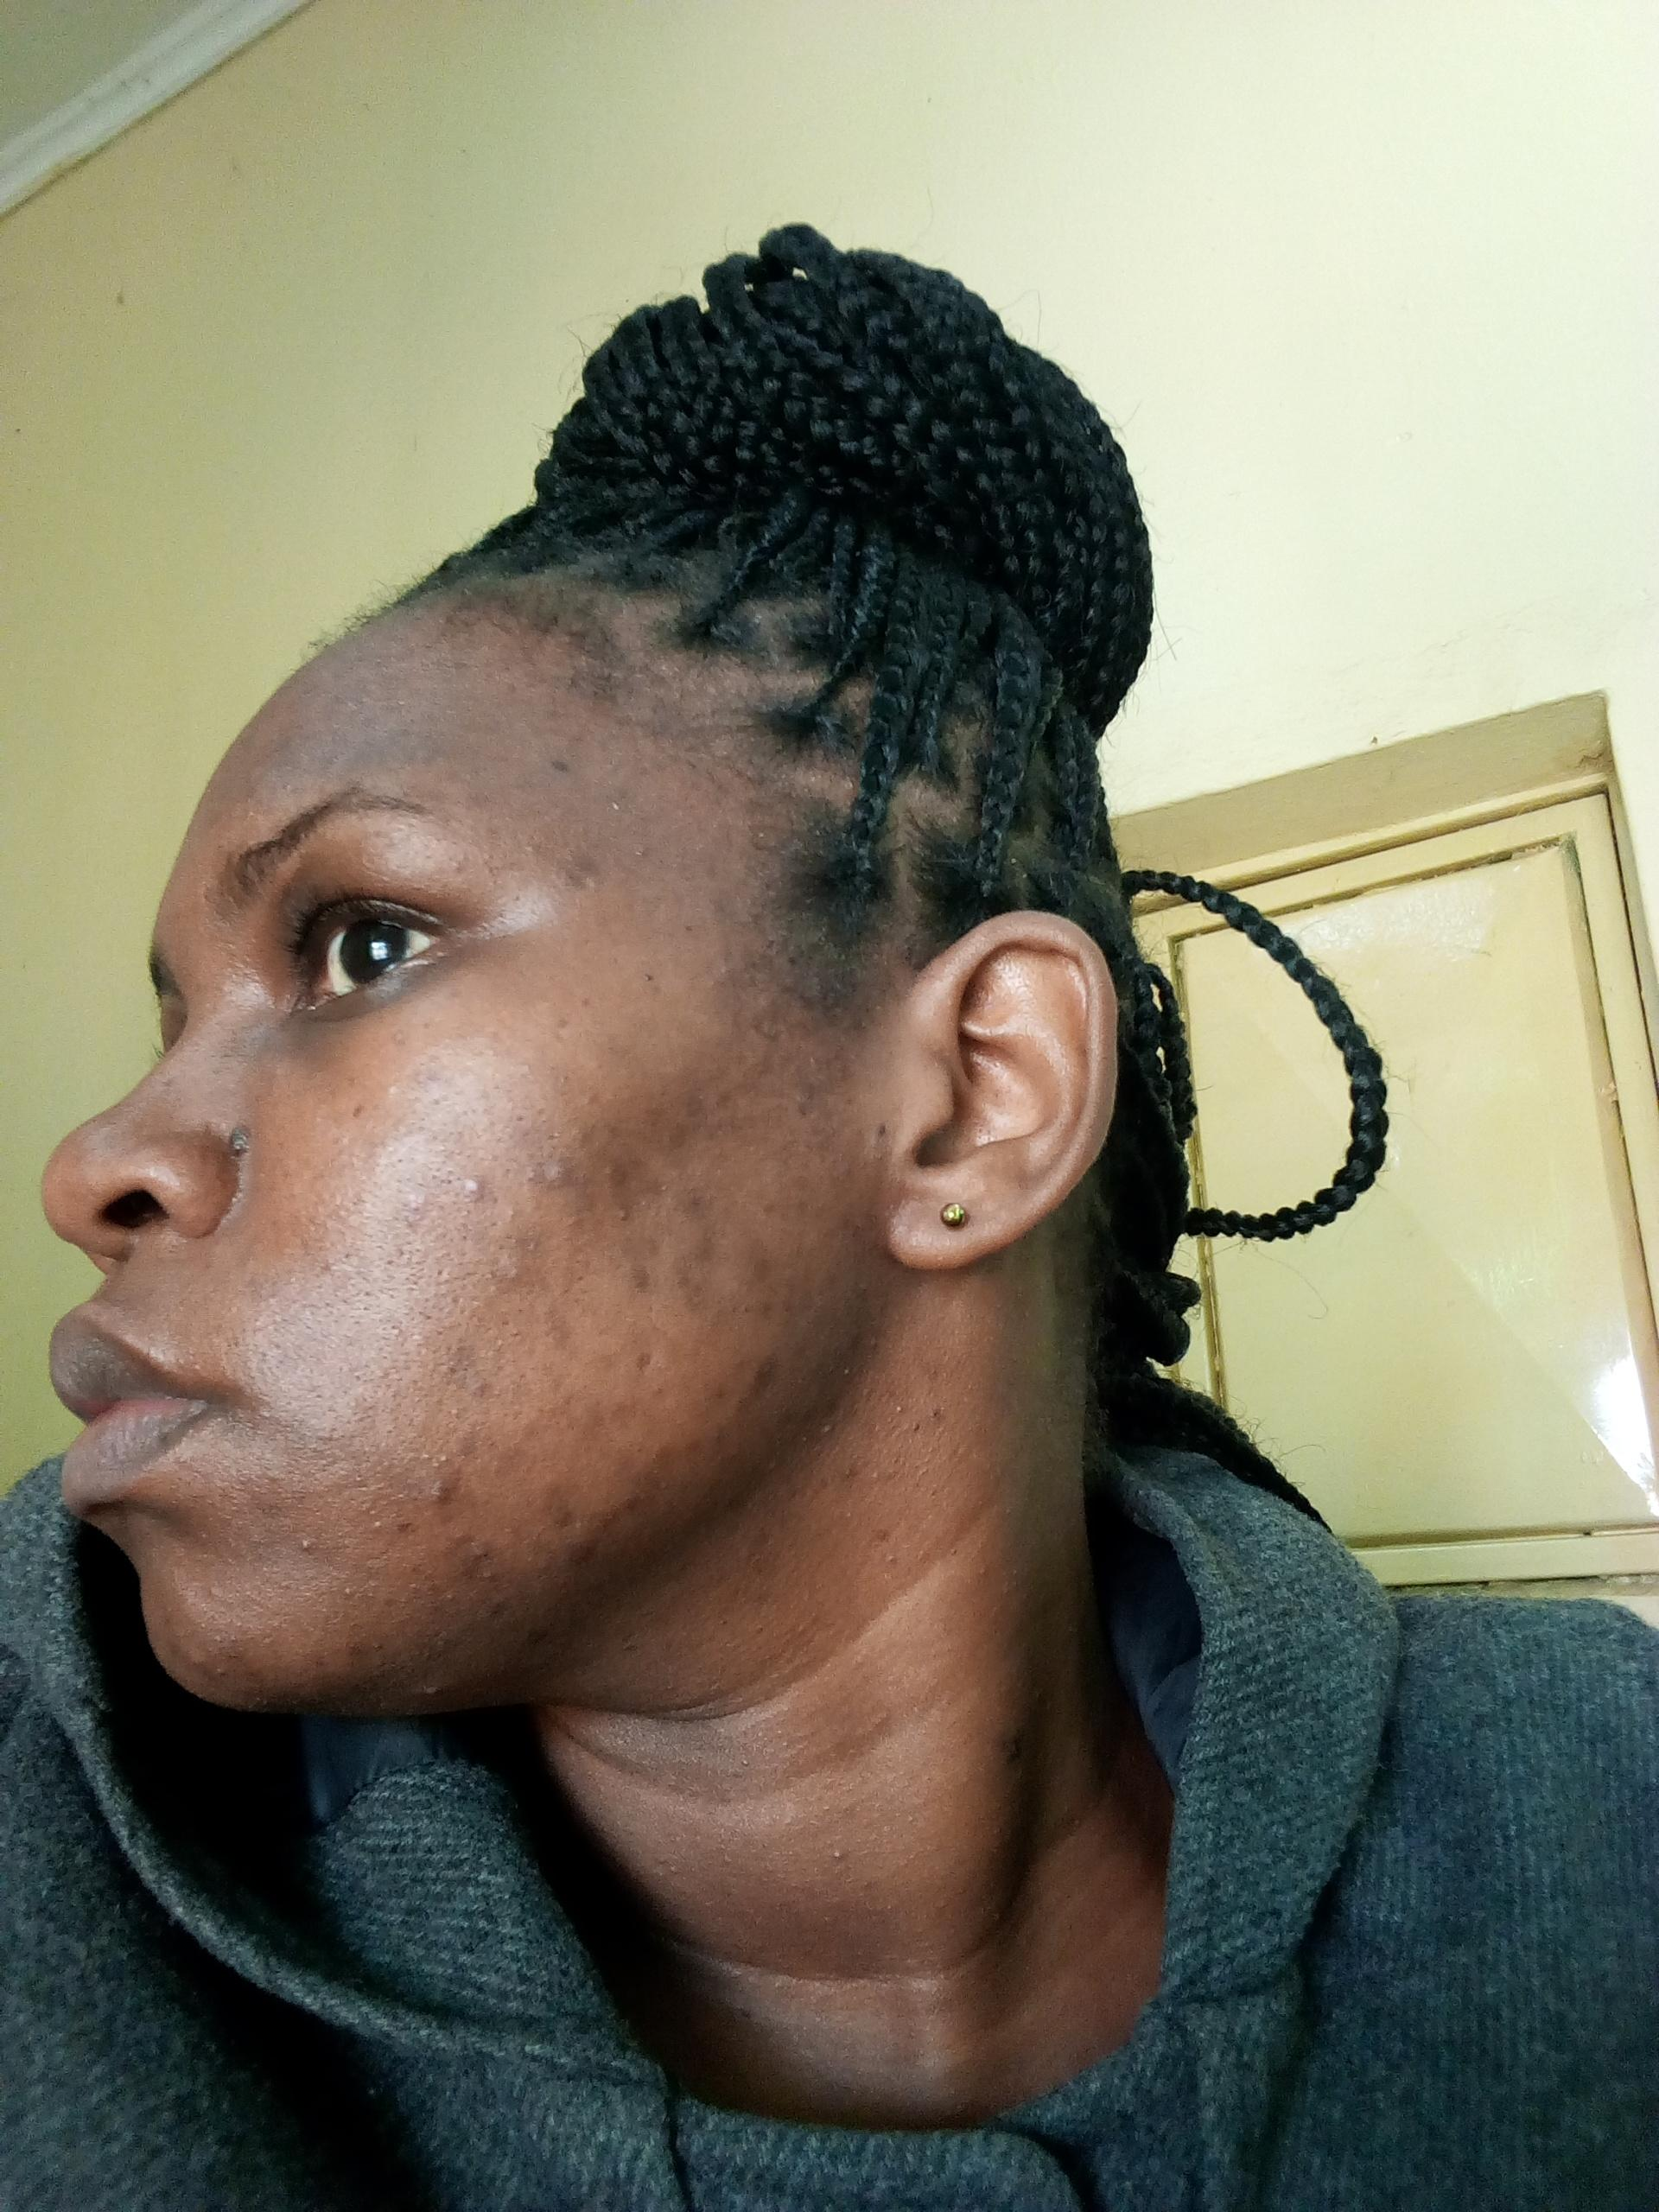Acne: (434, 1353, 570, 1484), (636, 1428, 816, 1512), (627, 1228, 781, 1310), (547, 1491, 667, 1581), (598, 1115, 678, 1244), (836, 1423, 911, 1555), (545, 850, 640, 913), (802, 1054, 871, 1136), (533, 1294, 606, 1353), (762, 1280, 836, 1332), (669, 1181, 737, 1235), (429, 1158, 491, 1209), (535, 1151, 586, 1211), (371, 1190, 450, 1226), (279, 1517, 331, 1569), (427, 1451, 464, 1521), (627, 1329, 678, 1374), (453, 1547, 505, 1587), (741, 1360, 795, 1397), (493, 1244, 533, 1287), (753, 1193, 798, 1230), (938, 1402, 969, 1453), (889, 1388, 927, 1421), (823, 1838, 854, 1874), (415, 1681, 448, 1703), (338, 1642, 373, 1663), (364, 1510, 387, 1536), (340, 1585, 361, 1608), (509, 1200, 521, 1231), (491, 1615, 511, 1632), (214, 1658, 223, 1684)
Eyebags: (289, 974, 477, 1029), (263, 1017, 352, 1078)
